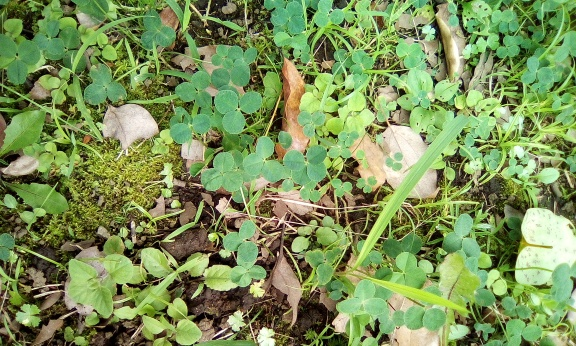4leaf: (282, 144, 327, 186)
